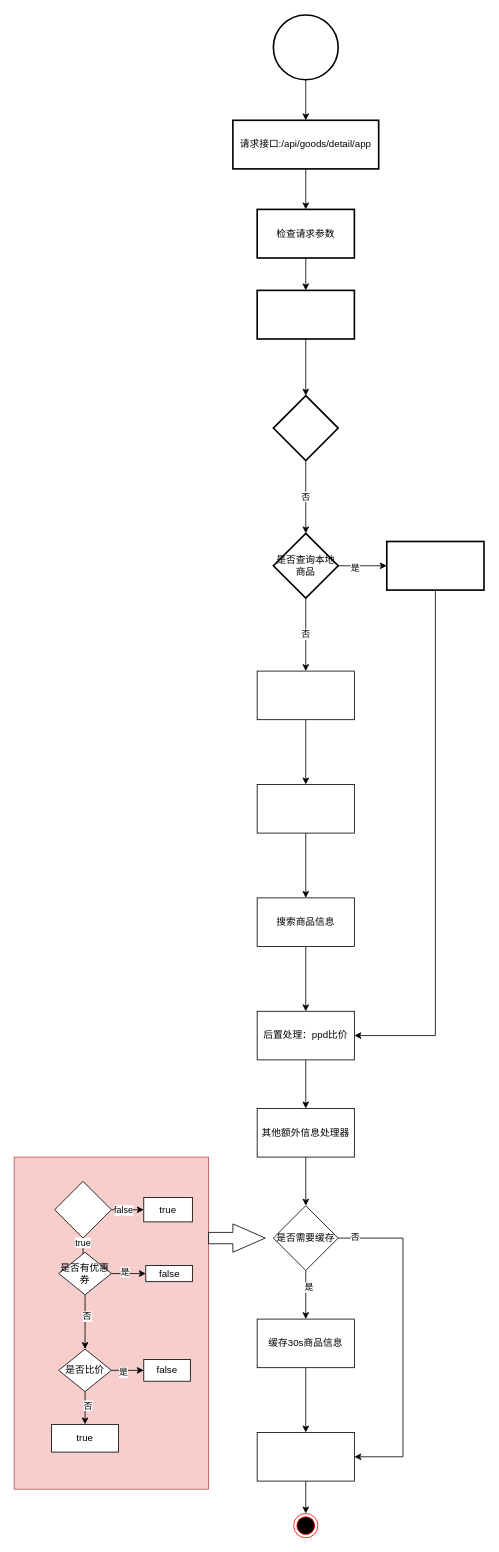
Some shapes in this 499 by 1552 pixel diagram are drawn without their labels. The shapes that lost their labels are listed below. From the top down, each one's centre as x and y in pixels, then its label:
[305,314]: 根据channel路由到指定的goods-service-detail服务
[305,427]: 缓存是否有有数据
[435,565]: 从本地缓存中查询商品
[305,695]: 从全网搜索
[305,808]: 根据channel去取不同查询器
[82,1209]: 是否淘宝
[305,1456]: 返回
